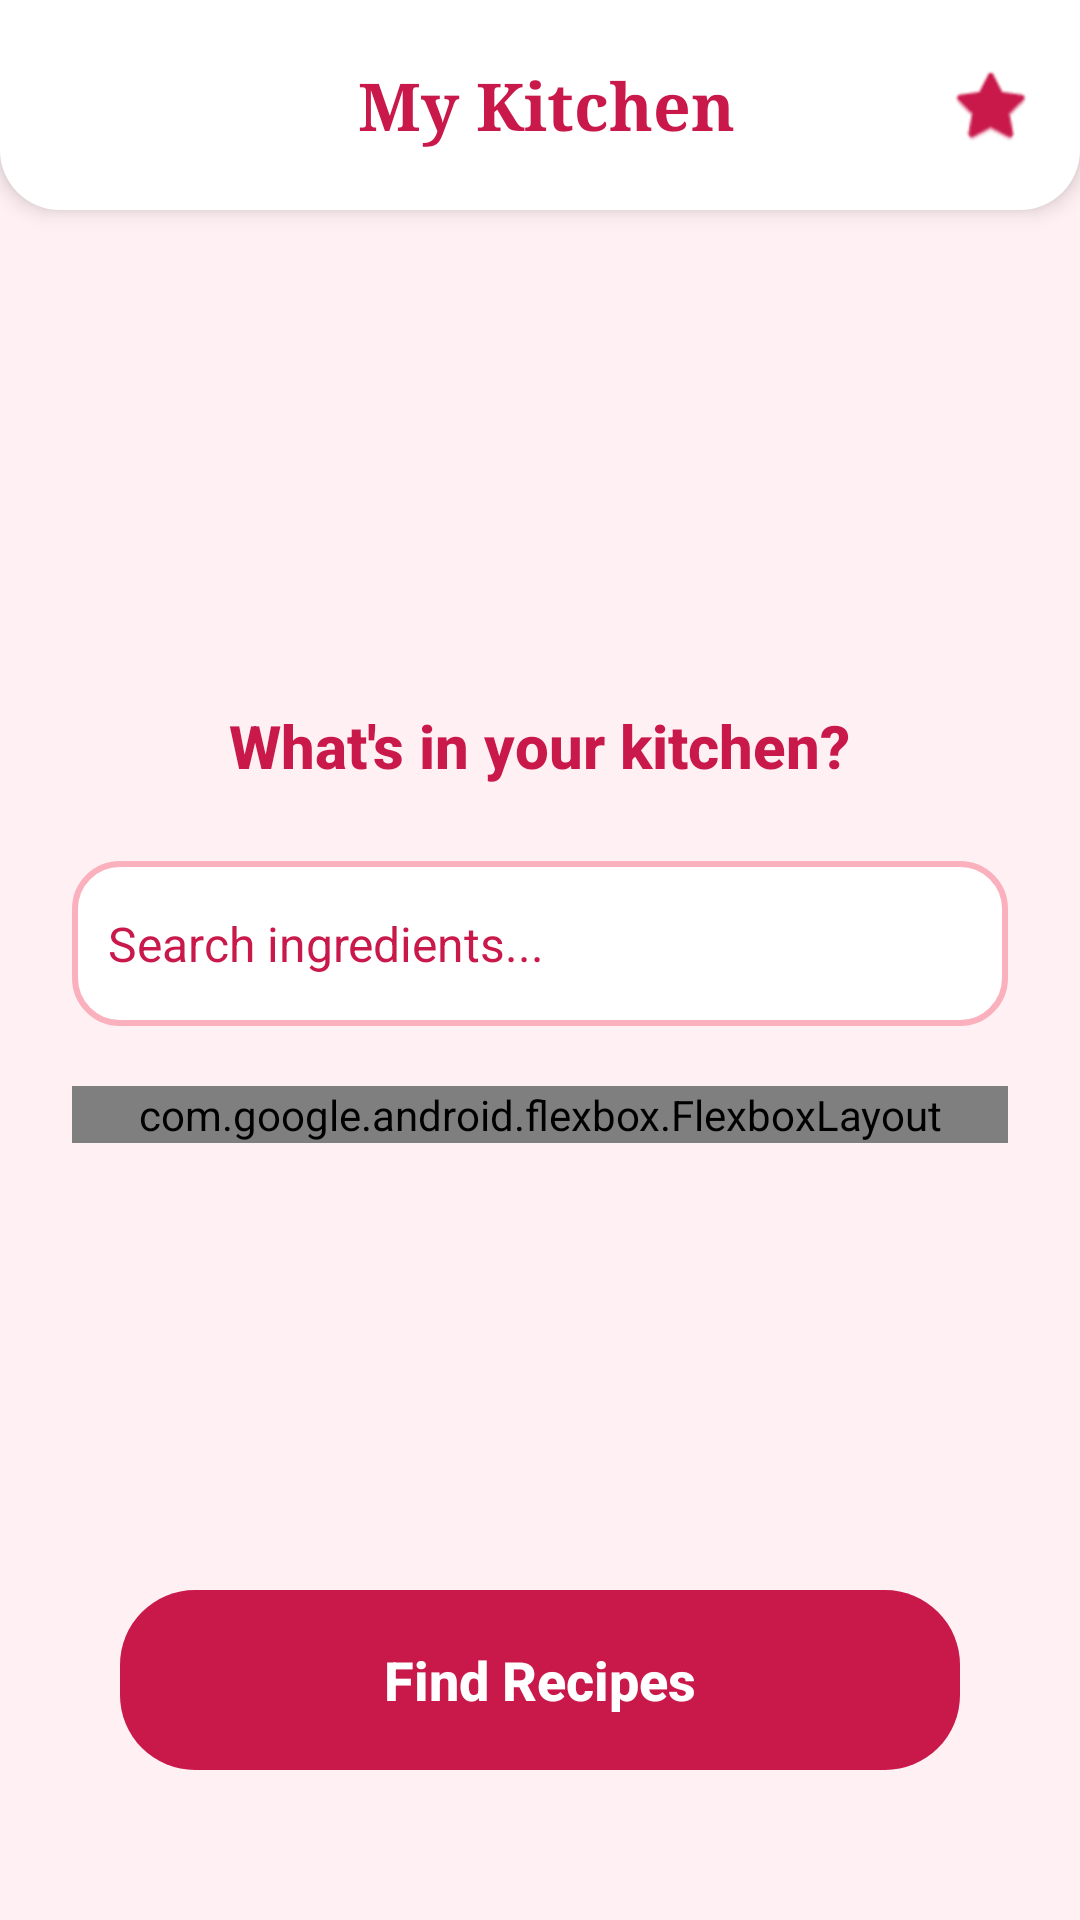

Point at icon controls on the screen. Image size 1080px×1920px, points as [x,y].
Favorites icon: [991,106]
